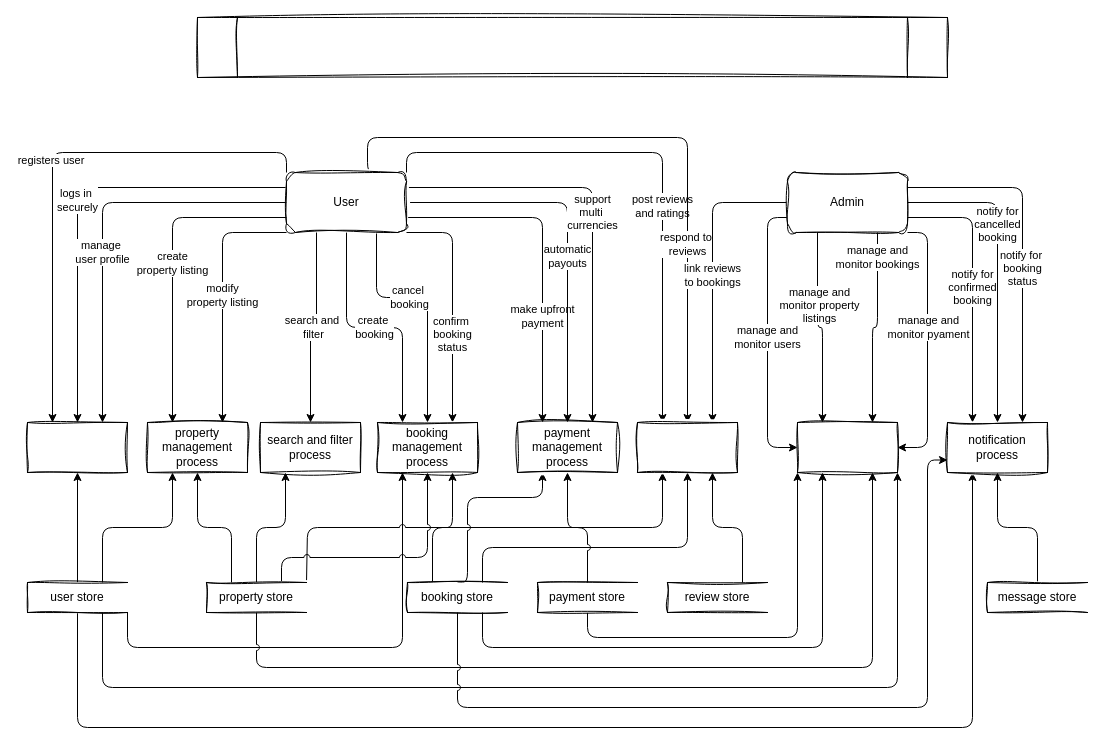
This 1105x753 diagram has some shape labels left out. The shapes that lost their labels are listed below. From the top down, each one's centre as x and y in pixels, then its label:
At (572,47): "AirBnb Data Flow Diagram".
At (77,447): "user management process".
At (687,447): "review and ratings process".
At (847,447): "admin process".
